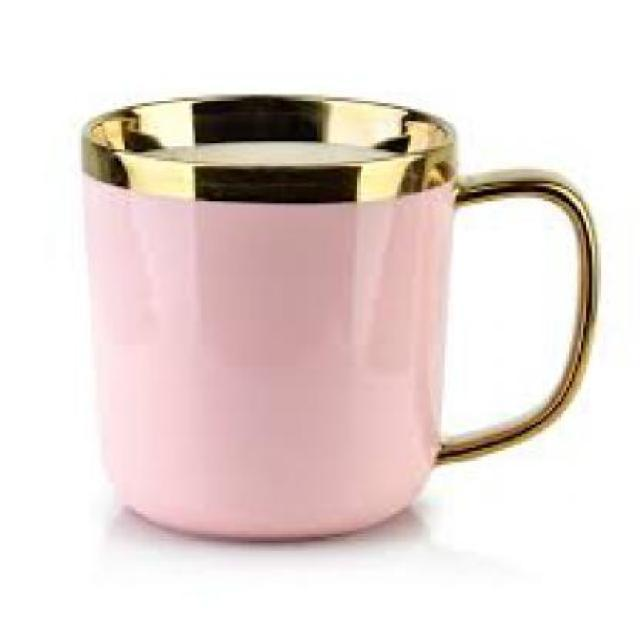cup: (71, 89, 603, 548)
